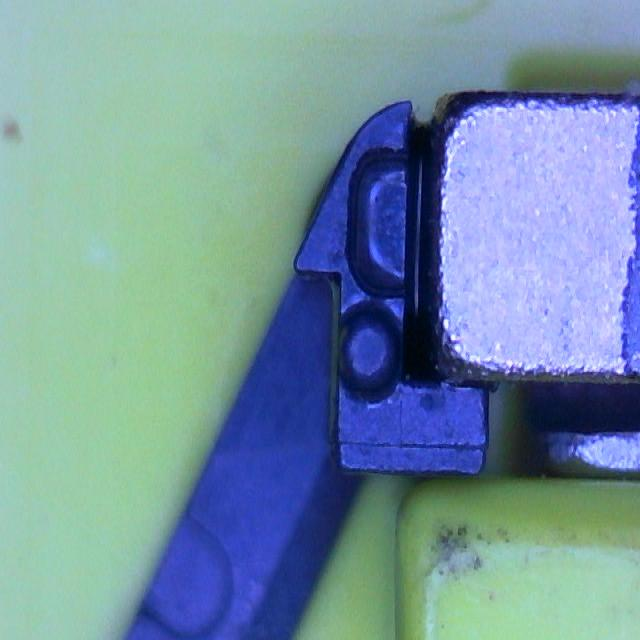good: (349, 147, 416, 300)
